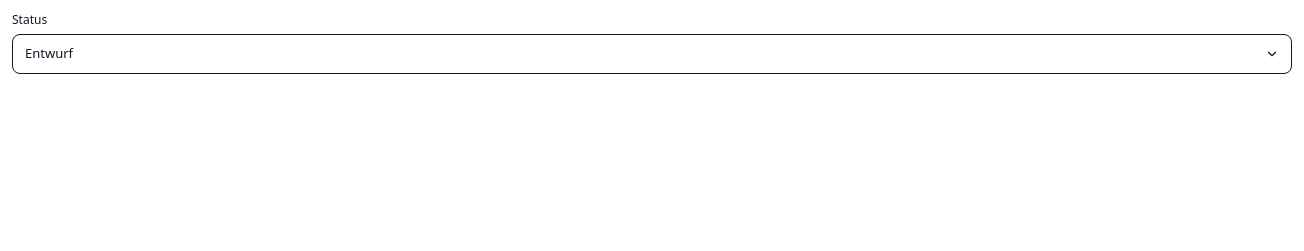
Scenario: PremiumSelect › closes on Escape and restores focus to the trigger
Click the dropdown named "Status" at (49, 53), box [12,34,1292,74]
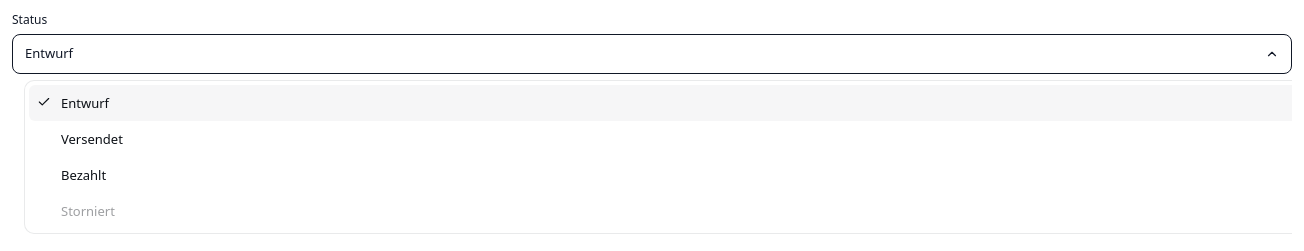
Press Escape
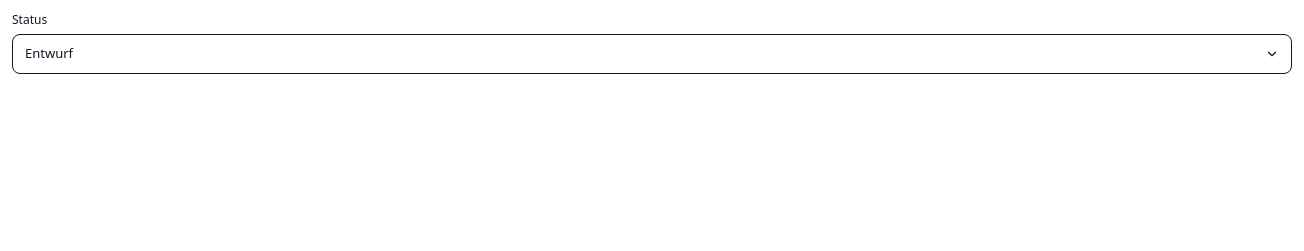
Expected: the list is gone
